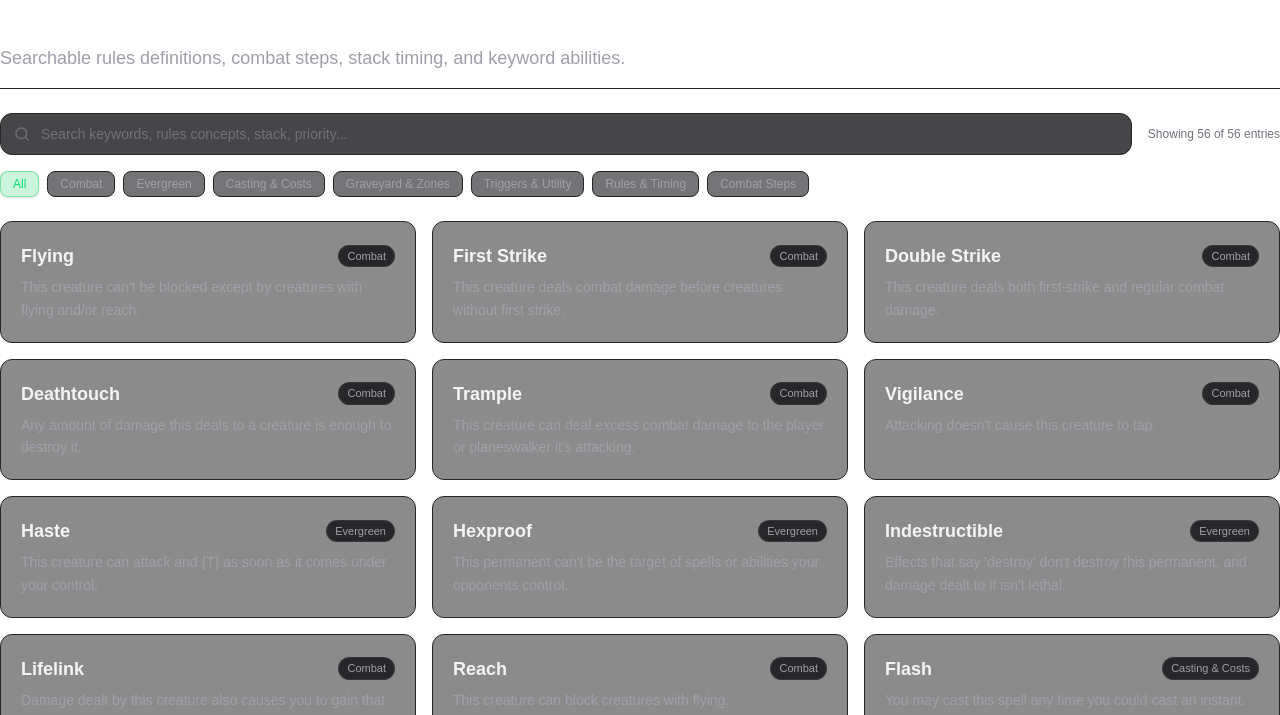
Test: KeywordGlossarySection Component › displays empty state when no entries match search query and allows reset
Step 1. Type "xyznonexistentrulesentry123" into the search field named "search glossary" → {"x": 566, "y": 134}, box [0,113,1132,155]
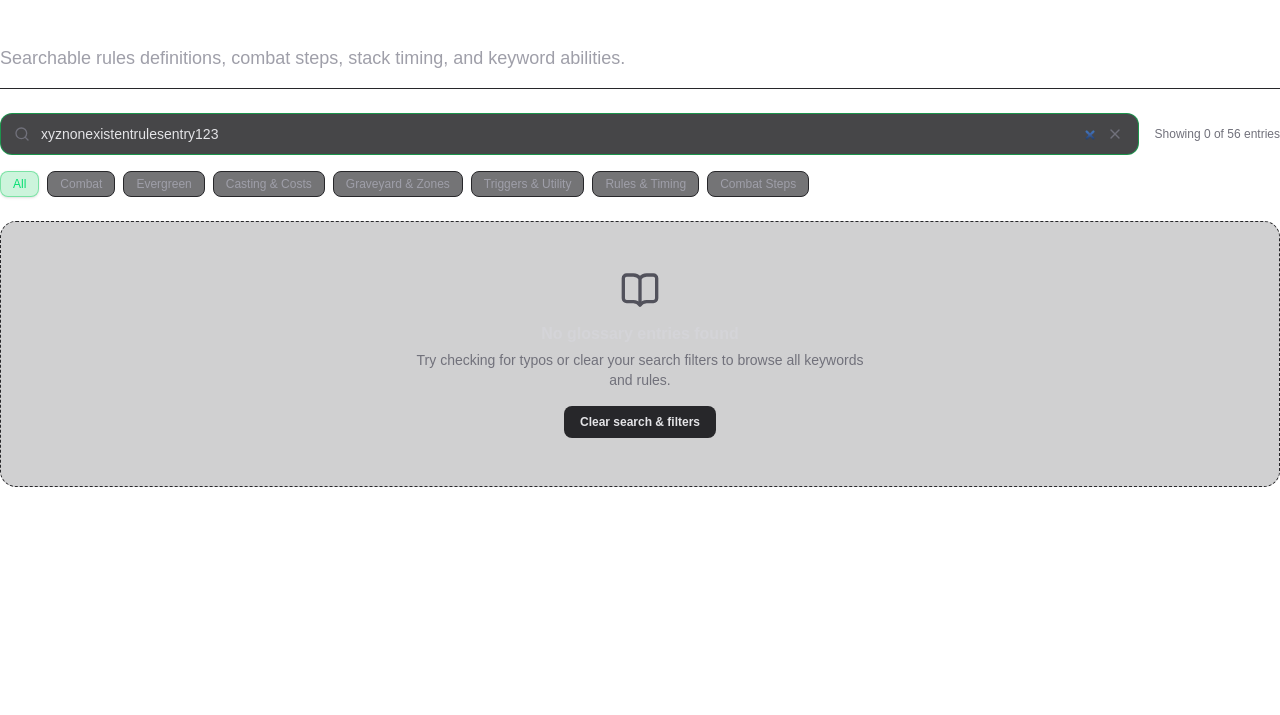
Expected: the button "Clear search & filters" is shown
When clicking reset
Step 2. Click the button "Clear search & filters" → {"x": 640, "y": 422}, box [564,406,716,438]
(page scrolled)
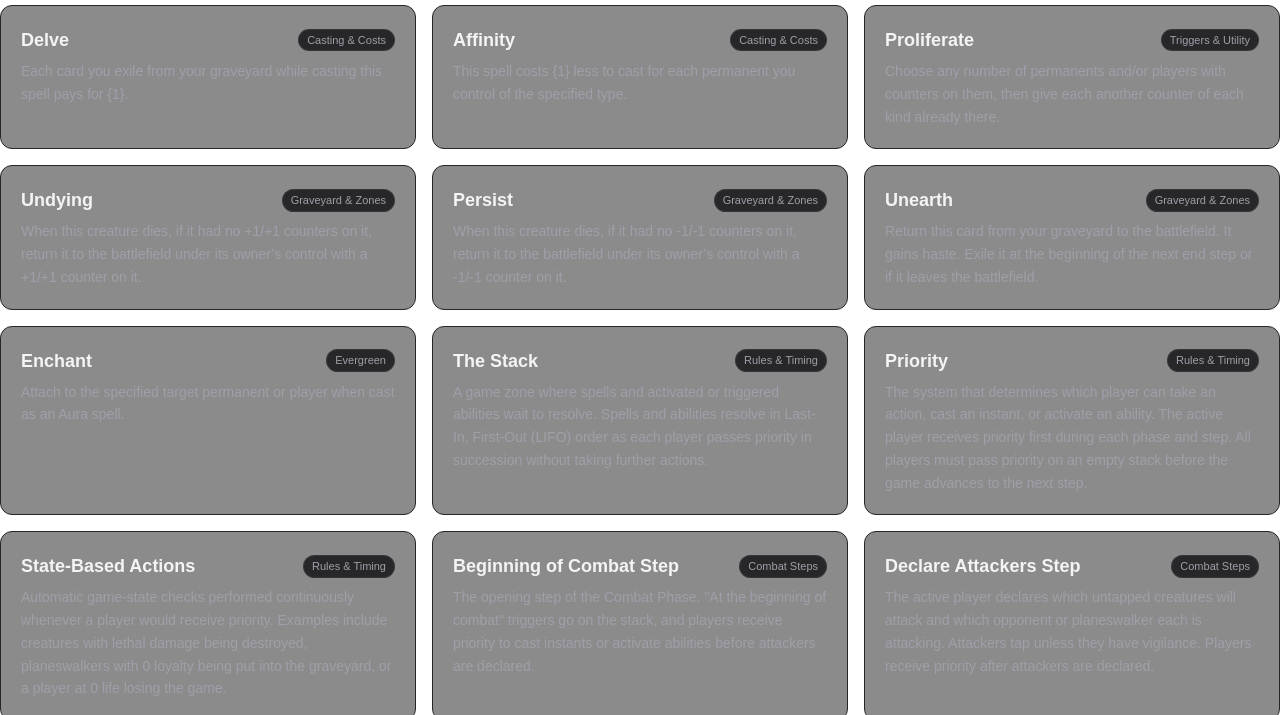
Expected: the heading "The Stack" is shown, [453,346,538,374]
